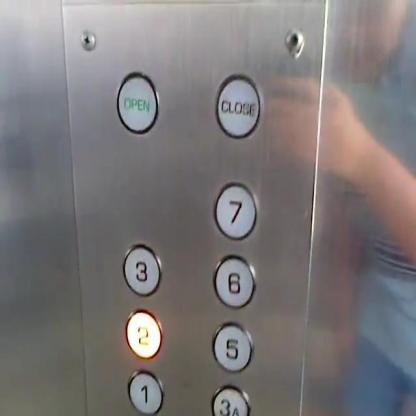1: (124, 368, 165, 415)
2: (122, 304, 163, 361)
3: (121, 241, 162, 297)
5: (211, 318, 252, 374)
6: (211, 250, 256, 310)
7: (213, 178, 258, 242)
text_close door: (213, 71, 263, 142)
text_open door: (114, 69, 159, 137)
